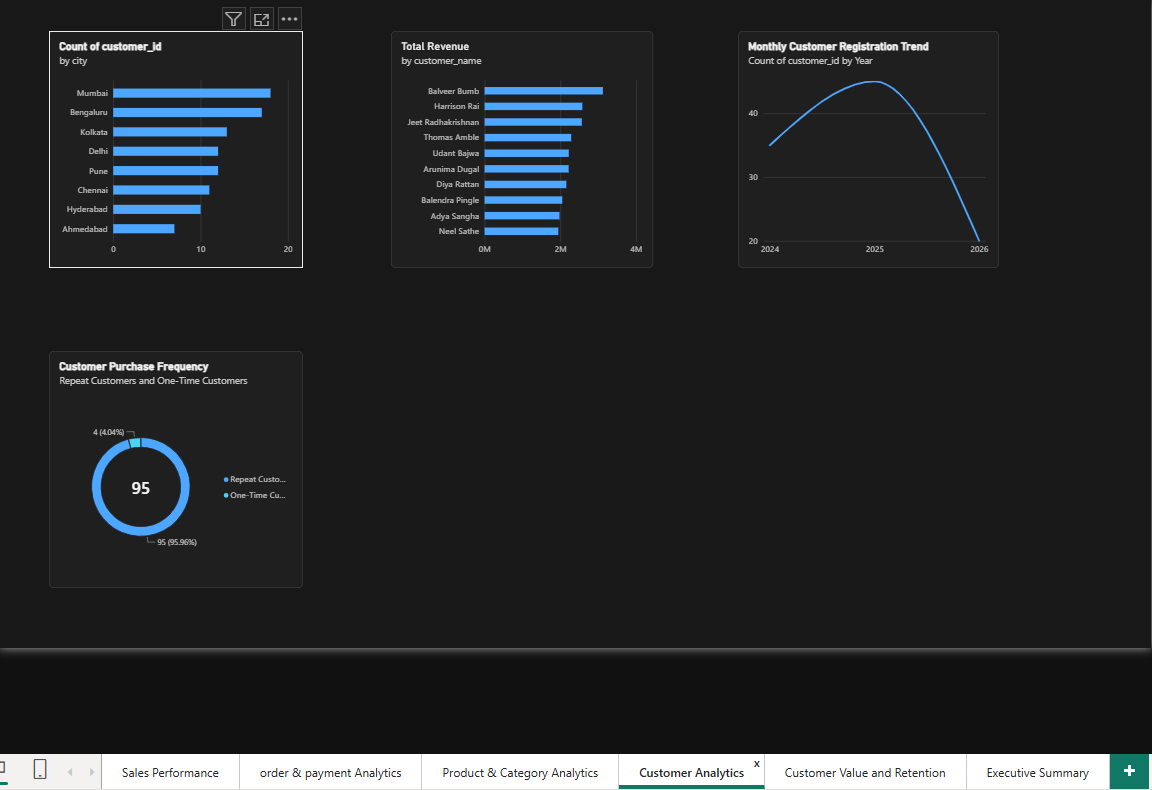

What the dashboard file says about the page in this screenshot:
{"tool":"powerbi","page":{"name":"Customer Analytics","canvas":[1920,1080],"ordinal":3},"visuals":[{"type":"clusteredBarChart","fields":{"Category":["customers.city"],"Y":["CountNonNull(customers.customer_id)"]},"box":[83.3,51.7,423.3,395],"z":0},{"type":"clusteredBarChart","fields":{"Category":["customers.customer_name"],"Y":["DateTable.Total Revenue"]},"box":[653.3,51.7,436.7,395],"z":1000},{"type":"lineChart","title":"Monthly Customer Registration Trend","fields":{"Category":["customers.signup_date.Variation.Date Hierarchy.Year","customers.signup_date.Variation.Date Hierarchy.Quarter","customers.signup_date.Variation.Date Hierarchy.Month","customers.signup_date.Variation.Date Hierarchy.Day"],"Y":["CountNonNull(customers.customer_id)"]},"box":[1231.7,51.7,435,395],"z":2000},{"type":"donutChart","title":"Customer Purchase Frequency","fields":{"Y":["DateTable.Repeat Customers","DateTable.One-Time Customers"]},"box":[83.3,585,423,395],"z":3000}]}

Visuals, with their boxes on the page's 1920x1080 design canvas (x1, y1, x2, y2). These are canvas units, not pixel positions in the 1152x790 screenshot, which may show the page scaled, cropped or inside an application window:
clusteredBarChart - customers.city x CountNonNull(customers.customer_id): select_region(83, 52, 507, 447)
clusteredBarChart - customers.customer_name x DateTable.Total Revenue: select_region(653, 52, 1090, 447)
"Monthly Customer Registration Trend" lineChart: select_region(1232, 52, 1667, 447)
"Customer Purchase Frequency" donutChart: select_region(83, 585, 506, 980)
